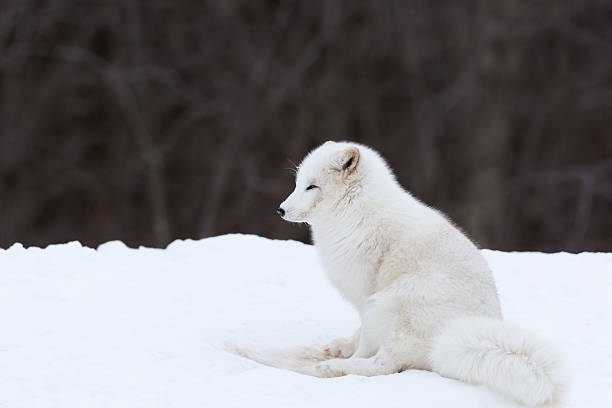arcticfox: (277, 157, 362, 246)
